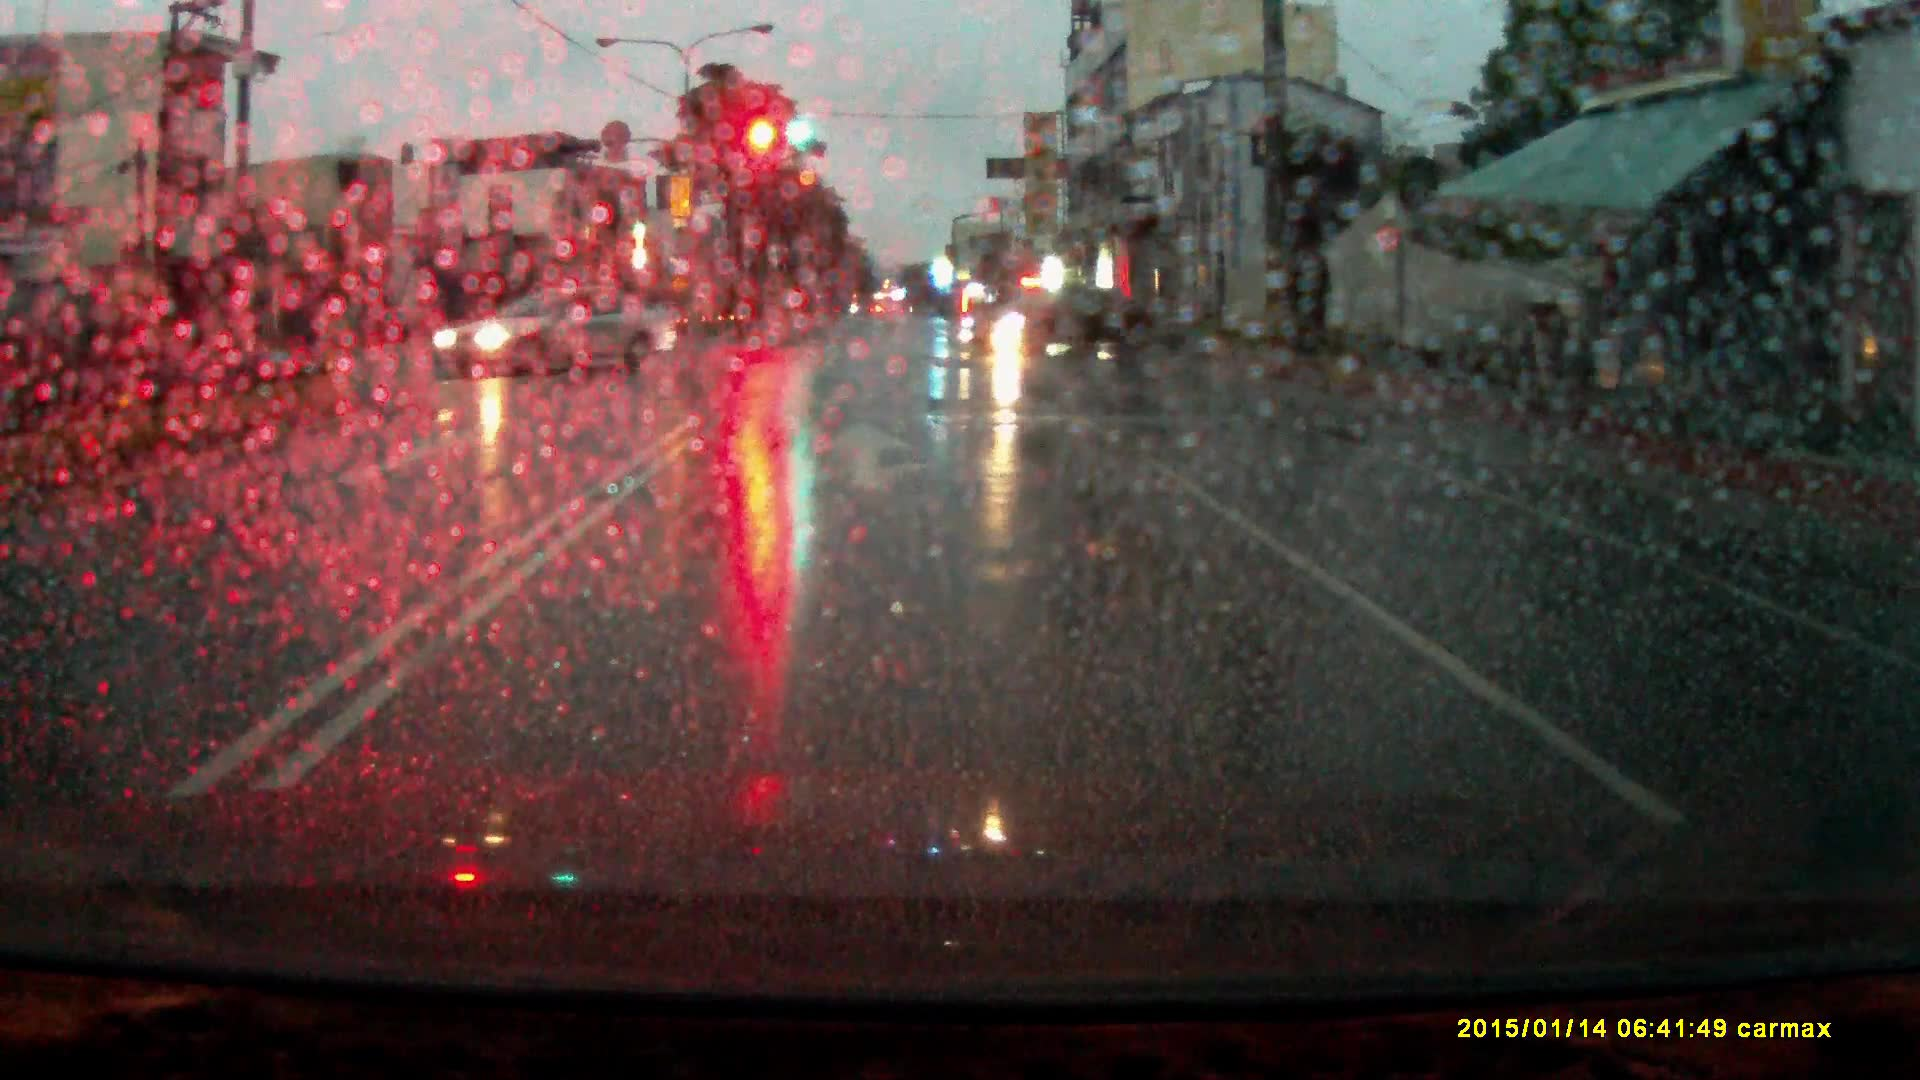vehicle: (436, 287, 680, 382), (963, 291, 1155, 361)
